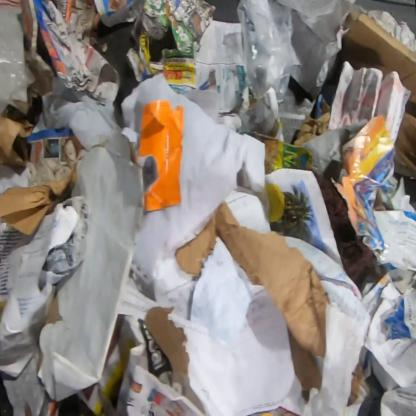cardboard: (174, 200, 330, 392), (37, 131, 146, 403), (341, 12, 415, 181), (144, 305, 208, 416), (0, 172, 77, 235), (0, 115, 35, 167)
soft_plastic: (236, 0, 296, 105)
